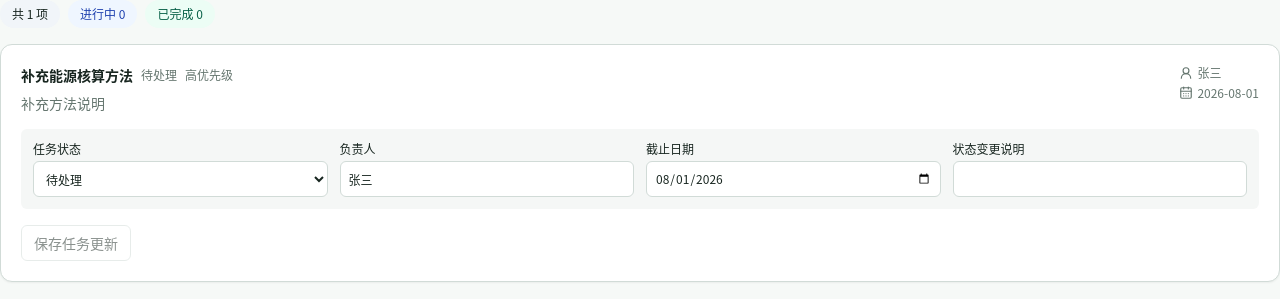
ActionList › updates task ownership and status with an audit note
Check: the heading "补充能源核算方法" is shown, box [21,65,133,85]
Select "已完成" in the dropdown named "任务状态：补充能源核算方法": (180, 179) [33,161,328,197]
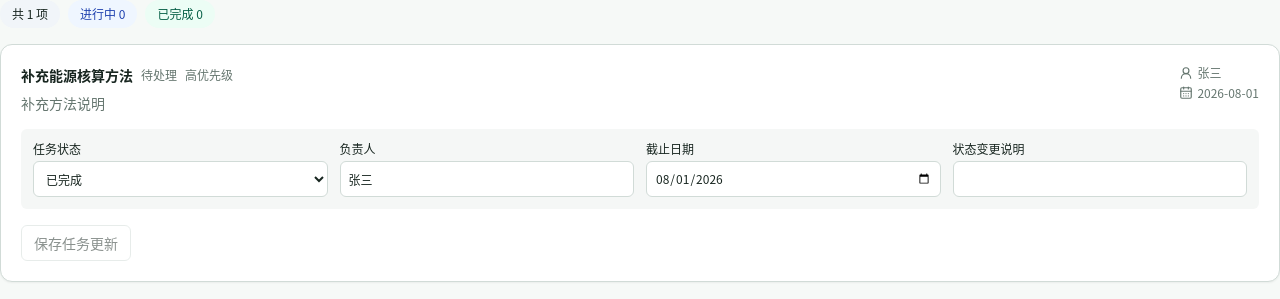
Check: the button "保存任务更新" is disabled, box [21,225,131,261]
In the field named "状态变更说明：补充能源核算方法": (1100, 179) [952,161,1247,197], type "已补充并核验"
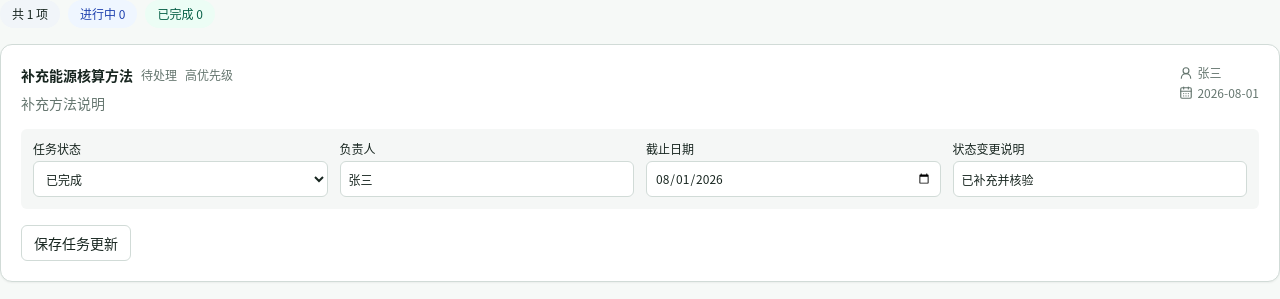
Click the button "保存任务更新": (76, 243) [21,225,131,261]
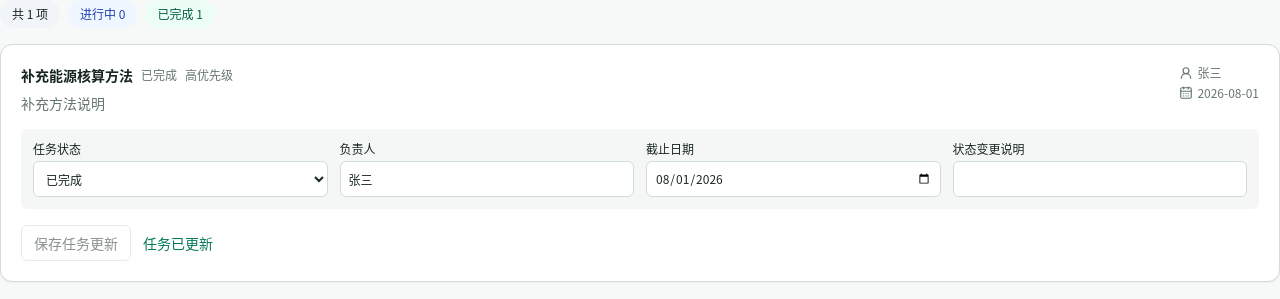
Check: the text "任务已更新" is shown, box [143,233,213,253]
